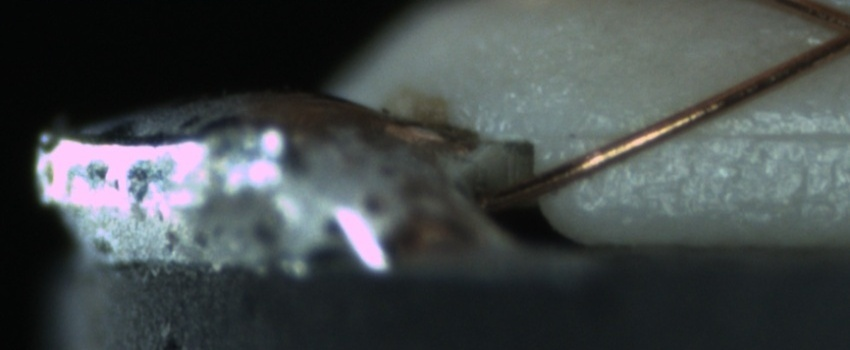DL: (574, 101, 846, 163)
